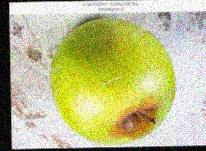rotten apple: (45, 15, 178, 147)
